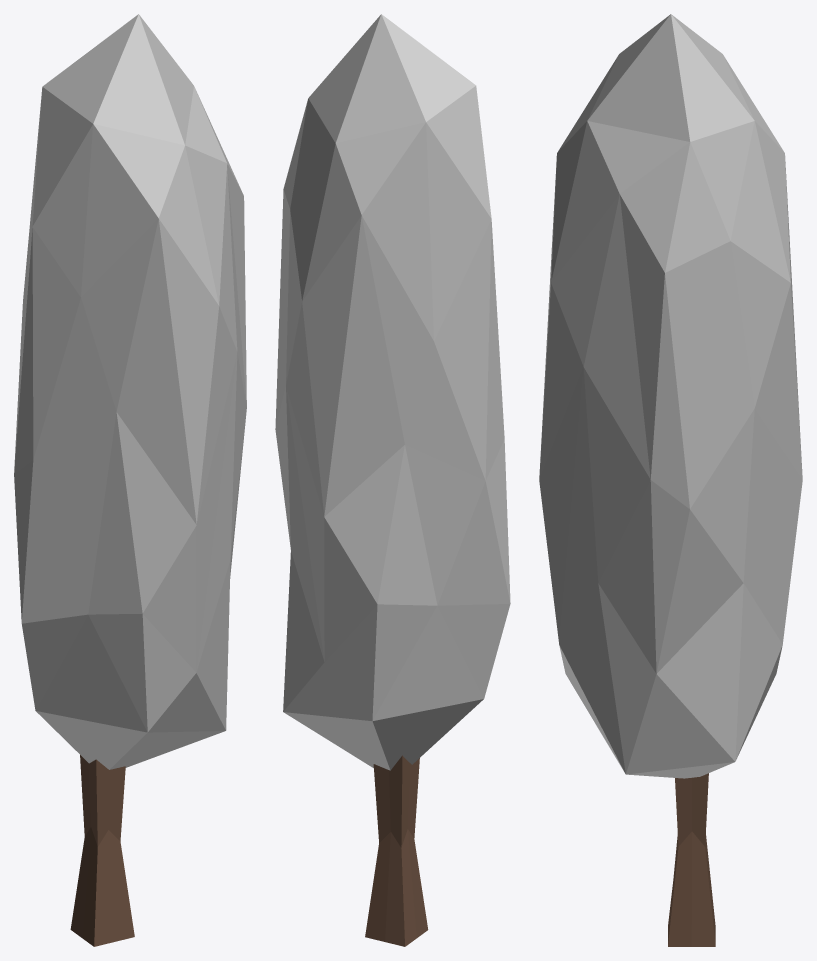
File: Tree_50_White.fbx
3 renders of one model, left to right at view 1: azimuth 30°, elevation 25°; view 2: azimuth 150°, elevation 25°; view 3: azimuth 270°, elevation 25°, orthographic. The views are drawn at different scales.
Parts seen in each view (by area): view 1: Tree_50_White_Part_1, Tree_50_White_Part_2; view 2: Tree_50_White_Part_1, Tree_50_White_Part_2; view 3: Tree_50_White_Part_1, Tree_50_White_Part_2.
Boxes of the visible parts, left/top/right/bottom form: Tree_50_White_Part_1: left=14, top=14, right=246, bottom=769; Tree_50_White_Part_2: left=70, top=755, right=134, bottom=946; Tree_50_White_Part_1: left=275, top=14, right=510, bottom=770; Tree_50_White_Part_2: left=365, top=755, right=428, bottom=946; Tree_50_White_Part_1: left=539, top=14, right=802, bottom=778; Tree_50_White_Part_2: left=668, top=773, right=715, bottom=946.
Size of the model in its own units: 208 by 810 by 207.
